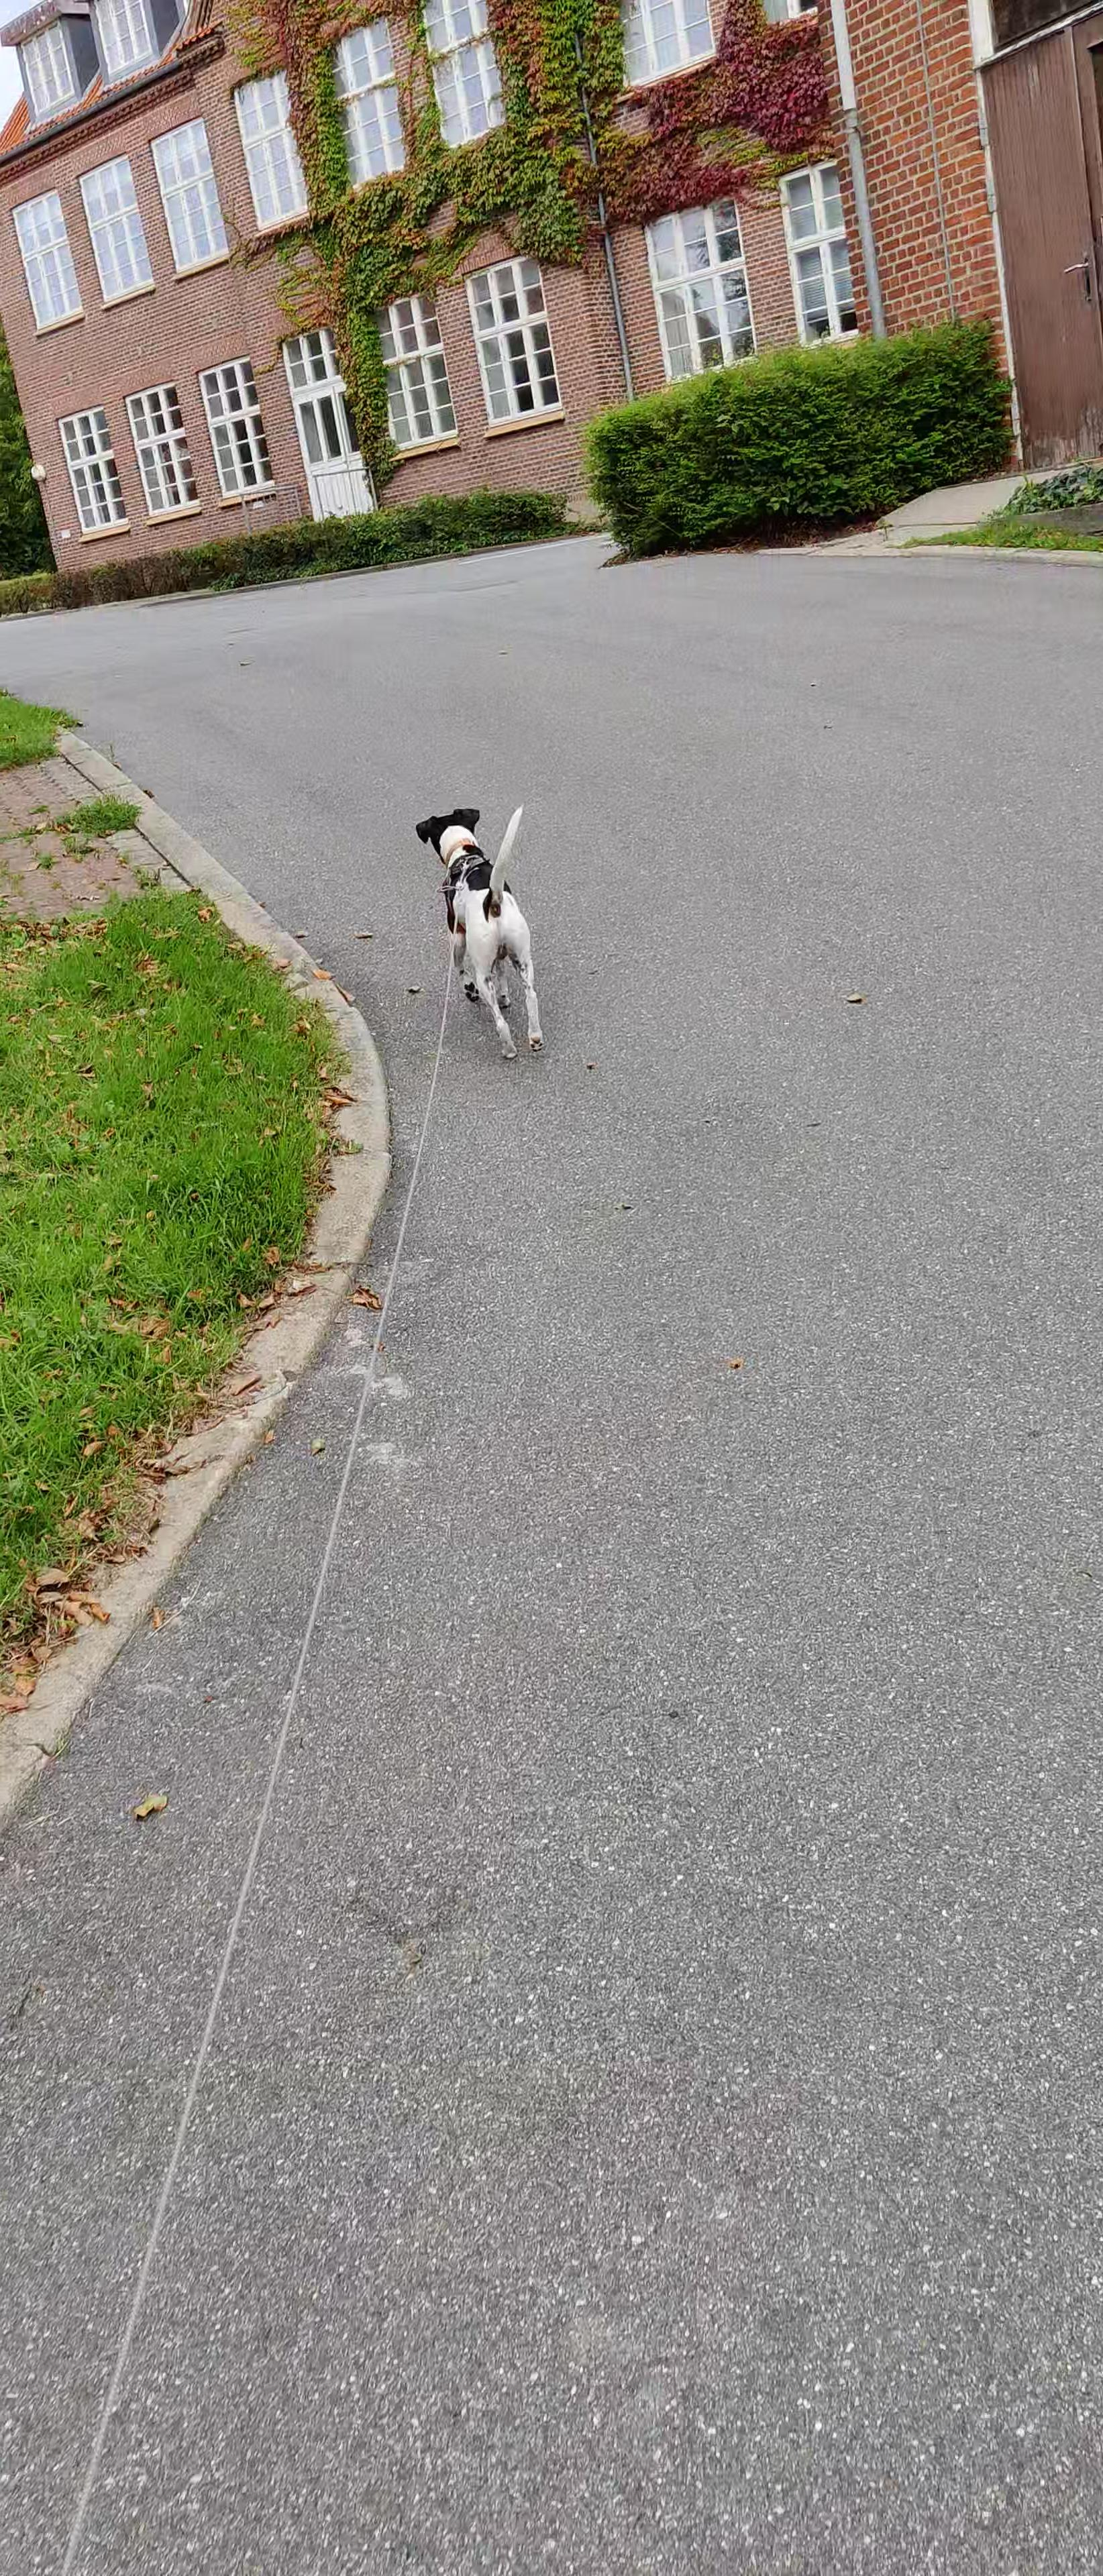Dog: (409, 777, 567, 1104)
